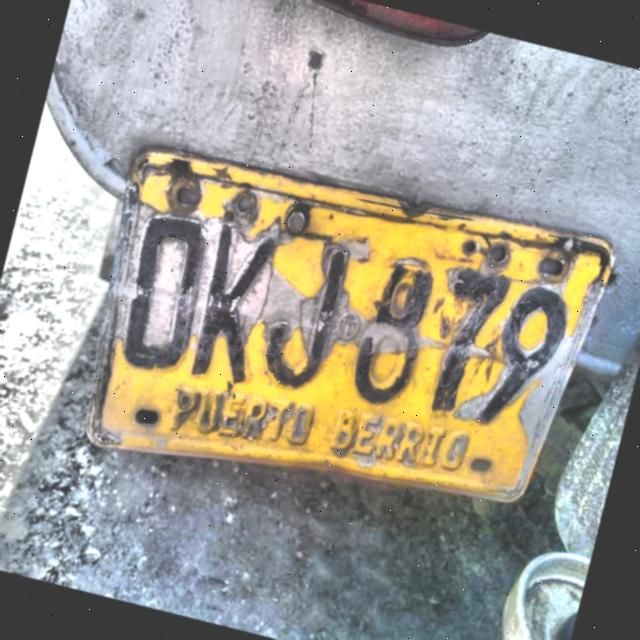plate: (96, 160, 609, 493)
